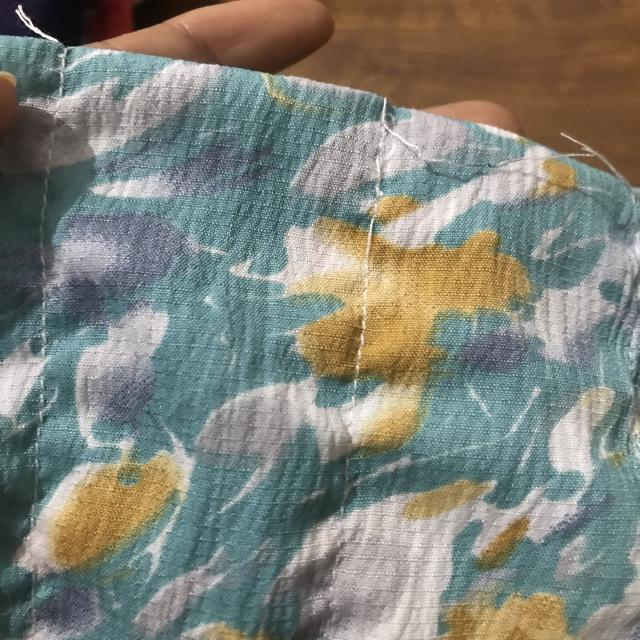good: (344, 307, 371, 373)
skip: (348, 214, 393, 274)
